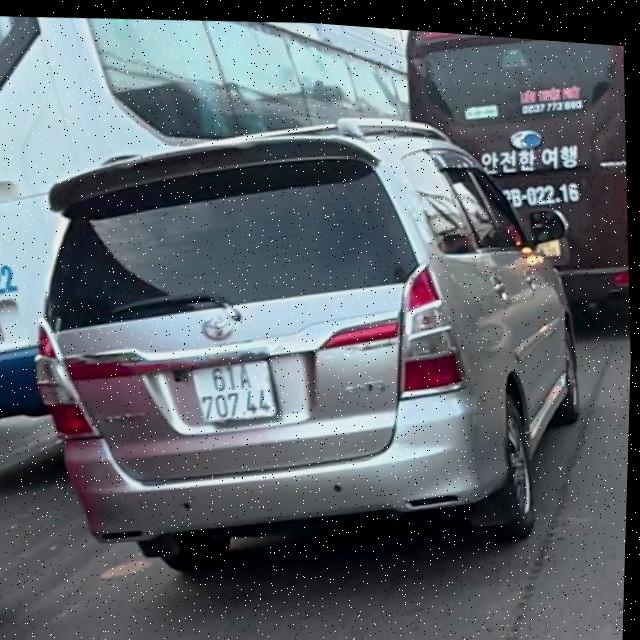car: (12, 85, 607, 627)
plate: (179, 348, 288, 434)
